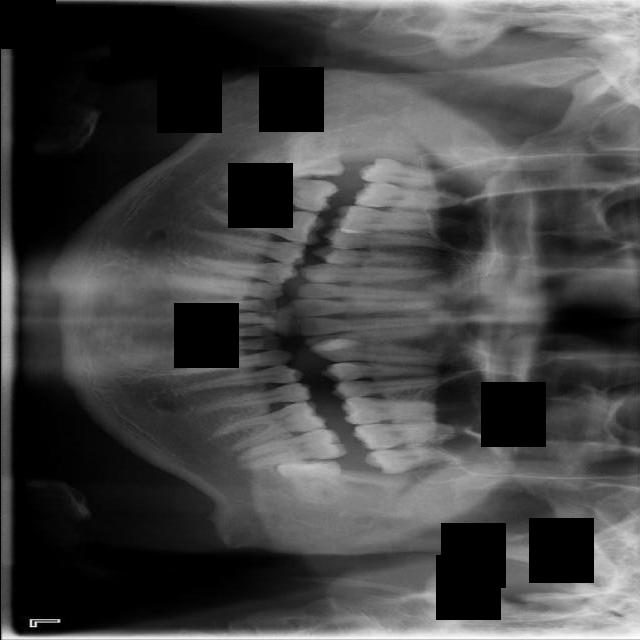3M ESPE Implant: (358, 156, 437, 188)
73: (64, 587, 76, 591)
BioHorizons Implant: (351, 420, 472, 452)
BioLife Implant: (364, 448, 454, 475)
Biomet 3i Implant: (276, 459, 349, 503)
Blue Sky Bio Implant: (238, 425, 349, 471)
Caries: (351, 180, 461, 211)
Implant: (223, 165, 340, 216)
Keystone Dental Implant: (277, 130, 345, 181)
